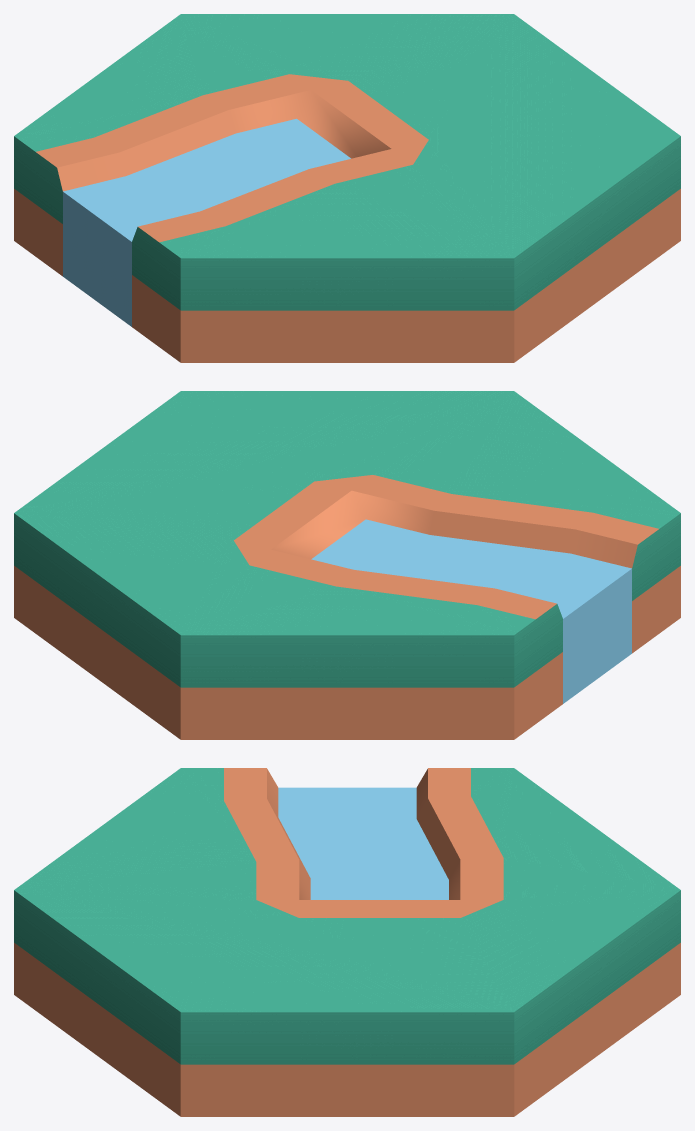
File: river-end.glb
3 renders of one model, top to bottom at view 1: azimuth 30°, elevation 25°; view 2: azimuth 150°, elevation 25°; view 3: azimuth 270°, elevation 25°, orthographic.
Visible parts, largest first — view 1: river-end; view 2: river-end; view 3: river-end.
Boxes of the visible parts, bbox=[...] form: river-end: bbox=[14, 14, 680, 362]; river-end: bbox=[14, 391, 680, 739]; river-end: bbox=[14, 768, 680, 1116].
Bounding box in the file's own units: 1 × 0.2 × 1.15.
Materials: 1 (1 with a texture image).
